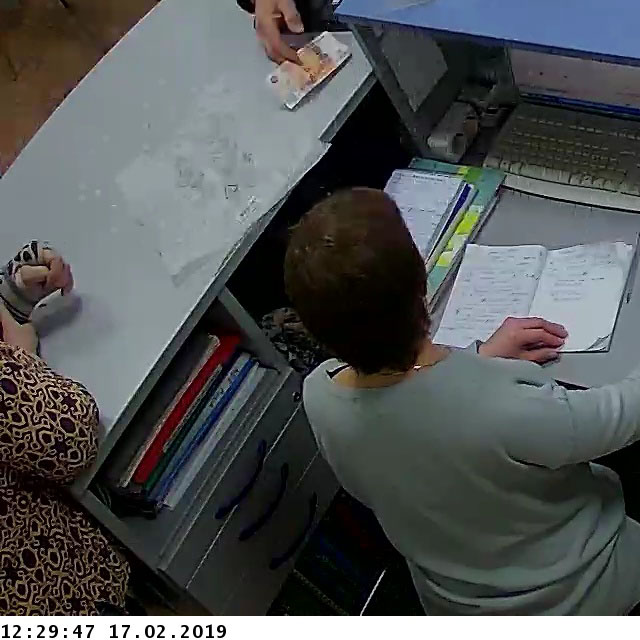banknotes: (267, 30, 353, 111)
